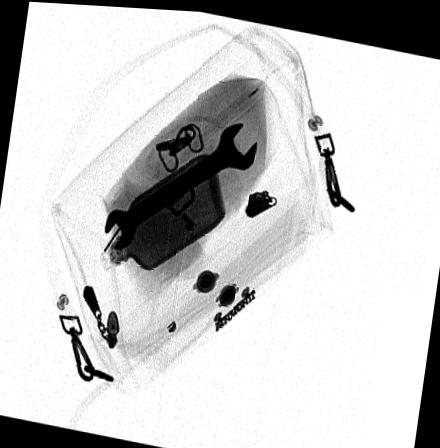Wrench: (102, 118, 260, 249)
